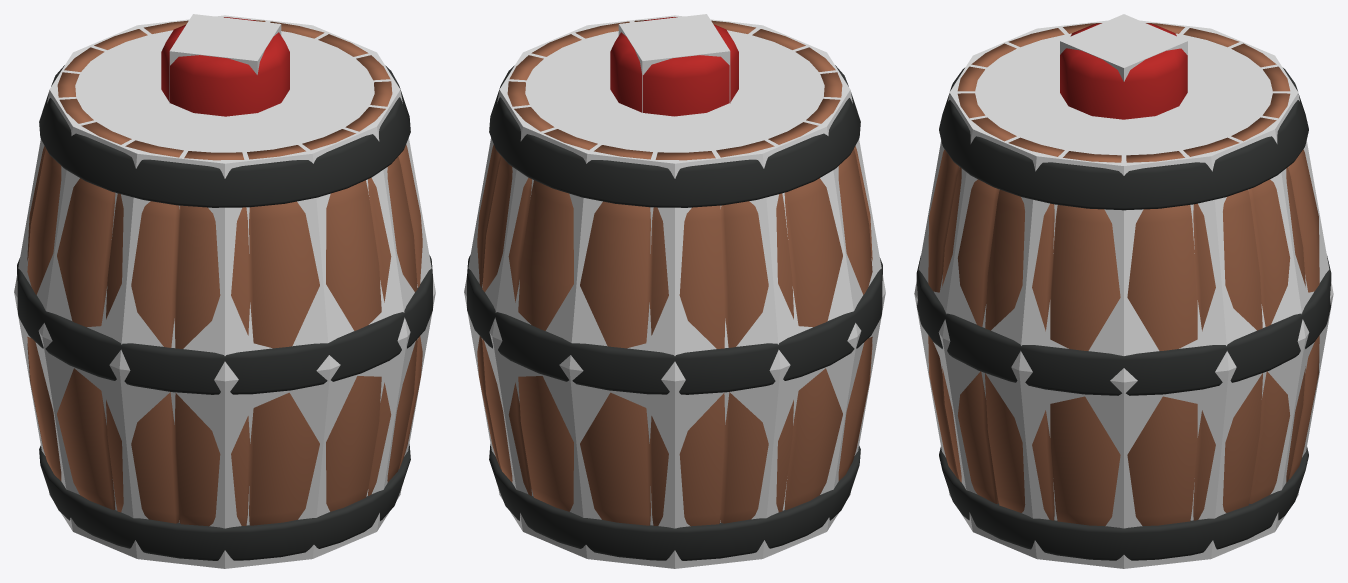
The model's file is Bombe 1.fbx.
The picture shows the model from 3 angles, left to right: view 1: azimuth 30°, elevation 25°; view 2: azimuth 150°, elevation 25°; view 3: azimuth 270°, elevation 25°; orthographic projection.
Parts seen in each view (by area): view 1: Bombe, Bombcoll 5, Bombcoll 2, Bombcoll 4, Bombcoll 1, Bombe 2, Bombcoll 10, Bombcoll 3; view 2: Bombe, Bombcoll 1, Bombcoll 2, Bombcoll 3, Bombcoll 5, Bombe 2, Bombcoll 10, Bombcoll 4; view 3: Bombe, Bombcoll 2, Bombcoll 3, Bombcoll 4, Bombe 2, Bombcoll 1, Bombcoll 5, Bombcoll 10.
Boxes of the visible parts, x1,y1,x2,y2 form: Bombe: (17, 20, 432, 560); Bombcoll 5: (42, 103, 330, 381); Bombcoll 2: (14, 293, 435, 568); Bombcoll 4: (257, 52, 435, 369); Bombcoll 1: (14, 25, 169, 335); Bombe 2: (161, 17, 289, 116); Bombcoll 10: (169, 14, 281, 102); Bombcoll 3: (138, 15, 376, 73); Bombe: (467, 20, 882, 560); Bombcoll 1: (569, 103, 857, 381); Bombcoll 2: (464, 293, 885, 568); Bombcoll 3: (464, 52, 642, 369); Bombcoll 5: (730, 25, 885, 335); Bombe 2: (610, 17, 738, 116); Bombcoll 10: (618, 14, 730, 112); Bombcoll 4: (523, 15, 761, 73); Bombe: (916, 23, 1331, 560); Bombcoll 2: (914, 294, 1333, 568); Bombcoll 3: (1124, 92, 1333, 382); Bombcoll 4: (914, 92, 1123, 382); Bombe 2: (1060, 23, 1187, 119); Bombcoll 1: (1140, 20, 1297, 92); Bombcoll 5: (950, 20, 1107, 92); Bombcoll 10: (1060, 14, 1187, 92).
Bounding box in the file's own units: 301 × 360 × 301.
